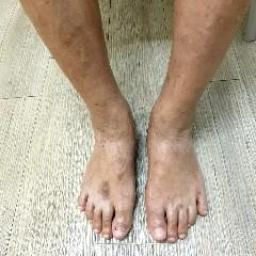Dorsal View -Both Feet-: (56, 68, 227, 251)
